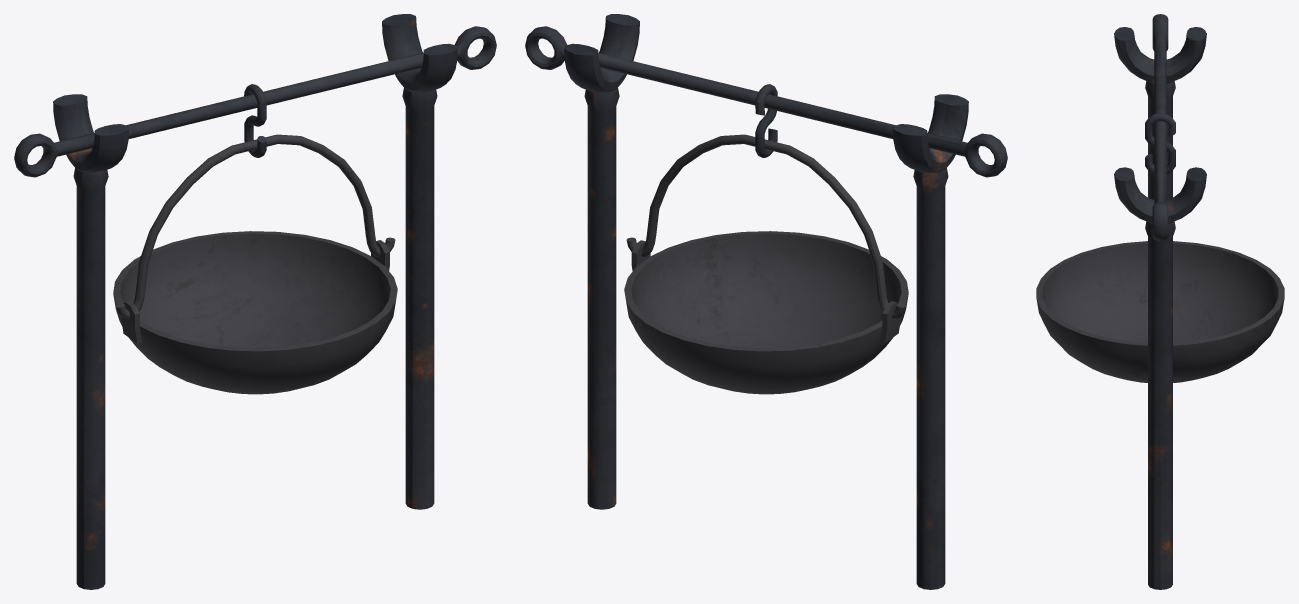
File: sb_obj_outdoor035_bonfire_pot01.fbx
The picture shows the model from 3 angles, left to right: view 1: azimuth 30°, elevation 25°; view 2: azimuth 150°, elevation 25°; view 3: azimuth 270°, elevation 25°; orthographic projection. The views are drawn at different scales.
Visible parts, largest first — view 1: sb_obj_outdoor035_bonfire_pot01; view 2: sb_obj_outdoor035_bonfire_pot01; view 3: sb_obj_outdoor035_bonfire_pot01.
Boxes of the visible parts, box(x1,y1,x2,y2) form: sb_obj_outdoor035_bonfire_pot01: box(14, 14, 496, 589); sb_obj_outdoor035_bonfire_pot01: box(525, 14, 1007, 589); sb_obj_outdoor035_bonfire_pot01: box(1036, 14, 1284, 589).
Size of the model in its own units: 0.8167 by 0.7632 by 0.4181.
